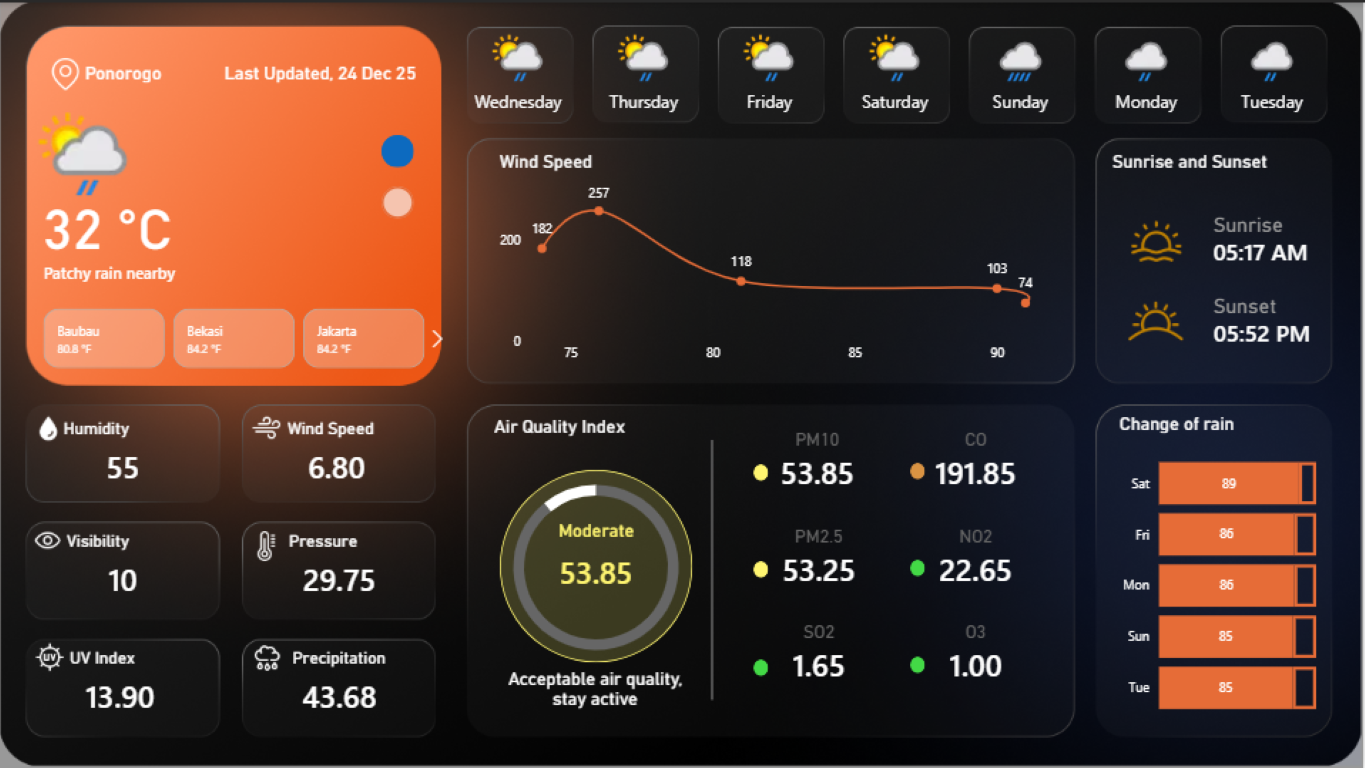

This screenshot's page, from the dashboard's own definition file:
{"tool":"powerbi","page":{"name":"Orange","canvas":[1280,720],"ordinal":0},"visuals":[{"type":"advancedSlicerVisual","fields":{"Values":["Locations.location.name"],"Label":["Measure.Cur_Temp_C"]},"box":[16.1,282.4,410.9,66.9],"z":0},{"type":"card","fields":{"Values":["Measure.Temp_C"]},"box":[14.7,168.6,172.6,77.6],"z":1000},{"type":"cardVisual","fields":{"Rows":["Current.current.condition.text"]},"box":[41.5,214.1,360,69.6],"z":2000},{"type":"cardVisual","fields":{"Rows":["Current.current.condition.text"]},"box":[80.2,56.2,152.6,37.5],"z":3000},{"type":"cardVisual","fields":{"Data":["Min(Current.current.condition.icon)"]},"box":[25.4,89.7,107.1,99],"z":4000},{"type":"image","box":[47.1,40,29.9,53.1],"z":5000},{"type":"cardVisual","fields":{"Data":["Min(Current.current.condition.icon)"]},"box":[28.1,491.2,33.5,28.1],"z":6000},{"type":"cardVisual","fields":{"Rows":["Current.current.condition.text"]},"box":[201.5,56.6,189.3,36.5],"z":7000},{"type":"cardVisual","title":"Visibility","fields":{"Rows":["Current.current.condition.text"]},"box":[46.8,496.5,74.9,18.7],"z":8000},{"type":"cardVisual","fields":{"Data":["Min(Current.current.condition.icon)"]},"box":[30.8,388.1,30.8,24.1],"z":9000},{"type":"cardVisual","fields":{"Data":["Min(Current.current.condition.icon)"]},"box":[231.5,385.4,38.8,28.1],"z":10000},{"type":"cardVisual","fields":{"Data":["Min(Current.current.condition.icon)"]},"box":[32.1,600.9,29.4,28.1],"z":11000},{"type":"cardVisual","fields":{"Data":["Min(Current.current.condition.icon)"]},"box":[236.9,598.2,29.4,34.8],"z":12000},{"type":"cardVisual","fields":{"Data":["Min(Current.current.condition.icon)"]},"box":[231.5,496.5,38.8,28.1],"z":13000},{"type":"cardVisual","title":"Humidity","fields":{"Rows":["Current.current.condition.text"]},"box":[46.8,390.8,74.9,18.7],"z":14000},{"type":"cardVisual","title":"UV Index","fields":{"Rows":["Current.current.condition.text"]},"box":[46.8,606.2,80.3,18.7],"z":15000},{"type":"cardVisual","title":"Precipitation","fields":{"Rows":["Current.current.condition.text"]},"box":[270.3,606.2,92.3,18.7],"z":16000},{"type":"cardVisual","title":"Pressure","fields":{"Rows":["Current.current.condition.text"]},"box":[261,496.5,74.9,18.7],"z":17000},{"type":"cardVisual","title":"Wind Speed","fields":{"Rows":["Current.current.condition.text"]},"box":[270.3,390.8,99,18.7],"z":18000},{"type":"cardVisual","fields":{"Data":["Sum(Current.current.humidity)"]},"box":[28.1,400.1,175.3,68.3],"z":19000},{"type":"cardVisual","fields":{"Data":["Sum(Current.current.wind_kph)"]},"box":[228.8,400.1,175.3,68.3],"z":20000},{"type":"cardVisual","fields":{"Data":["Sum(Current.current.pressure_in)"]},"box":[231.5,505.9,175.3,68.3],"z":21000},{"type":"cardVisual","fields":{"Data":["Sum(Forcast_Days.forecast.forecastday.day.totalprecip_in)"]},"box":[231.5,615.6,175.3,68.3],"z":22000},{"type":"cardVisual","fields":{"Data":["Sum(Current.current.vis_km)"]},"box":[28.1,505.9,175.3,68.3],"z":23000},{"type":"cardVisual","fields":{"Data":["Sum(Current.current.uv)"]},"box":[25.4,615.6,175.3,68.3],"z":24000},{"type":"advancedSlicerVisual","fields":{"Values":["Forcast_Days.Day_Name"]},"box":[426.7,10,834.8,112.7],"z":25000},{"type":"lineChart","title":"Wind Speed ","fields":{"Category":["Forcast_Days.forecast.forecastday.day.avghumidity"],"Y":["Sum(Forcast_Days.forecast.forecastday.day.maxwind_mph)"]},"box":[463.8,139.8,540.8,208.3],"z":26000},{"type":"cardVisual","title":"Sunrise and Sunset","fields":{"Rows":["Current.current.condition.text"]},"box":[1045.2,139.2,199.4,29.4],"z":27000},{"type":"cardVisual","fields":{"Data":["Min(Forcast_Days.Sunrise_Date)"]},"box":[1120.2,206.9,128.4,49.9],"z":28000},{"type":"cardVisual","fields":{"Data":["Min(Forcast_Days.Sunset_Date)"]},"box":[1120.2,282.5,131.3,51.4],"z":29000},{"type":"cardVisual","title":"Sunrise","fields":{"Data":["Min(Forcast_Days.Sunrise_Date)"]},"box":[1134.9,198.1,95,33.5],"z":30000},{"type":"cardVisual","title":"Sunset","fields":{"Data":["Min(Forcast_Days.Sunrise_Date)"]},"box":[1134.9,274.3,80.3,33.5],"z":31000},{"type":"image","box":[1051.7,265.4,68.5,68.5],"z":32000},{"type":"image","box":[1051.7,201.2,68.5,47.1],"z":33000},{"type":"barChart","title":"Change of rain","fields":{"Category":["Forcast_Days.DayName"],"Y":["Avg(Forcast_Days.forecast.forecastday.day.daily_chance_of_rain)","Current.left_value_rain"]},"box":[1051.9,385.4,184.7,298.4],"z":34000},{"type":"cardVisual","title":"Air Quality Index","fields":{"Rows":["Current.current.condition.text"]},"box":[464.4,388.1,136.5,29.4],"z":35000},{"type":"cardVisual","title":"CO","fields":{"Data":["Sum(Current.current.air_quality.co)"]},"box":[842.8,400.3,147.5,65],"z":36000},{"type":"cardVisual","title":"NO2","fields":{"Data":["Sum(Current.current.air_quality.no2)"]},"box":[842.8,491.6,147.5,65],"z":37000},{"type":"cardVisual","title":"O3","fields":{"Data":["Sum(Current.current.air_quality.o3)"]},"box":[842.8,581.2,147.5,65],"z":38000},{"type":"cardVisual","title":"PM10","fields":{"Data":["Sum(Current.current.air_quality.pm10)"]},"box":[704.1,400.3,128.2,65],"z":39000},{"type":"cardVisual","title":"PM2.5","fields":{"Data":["Sum(Current.current.air_quality.pm2_5)"]},"box":[695.3,491.6,147.5,65],"z":40000},{"type":"cardVisual","title":"SO2","fields":{"Data":["Sum(Current.current.air_quality.so2)"]},"box":[695.3,581.2,147.5,65],"z":41000},{"type":"shape","box":[707.6,433.7,14,15.8],"z":42000},{"type":"shape","box":[707.6,525,14,15.8],"z":43000},{"type":"shape","box":[707.6,616.3,14,15.8],"z":44000},{"type":"shape","box":[855.4,432,14,15.8],"z":45000},{"type":"shape","box":[855.4,523.3,14,15.8],"z":46000},{"type":"shape","box":[855.4,614.6,14,15.8],"z":47000},{"type":"shape","box":[640.9,410.9,56.2,244.1],"z":48000},{"type":"shape","box":[469.7,439.3,180.9,180.9],"z":49000},{"type":"donutChart","title":"PM10","fields":{"Y":["Measure.Left_Value_PM10","Sum(Current.current.air_quality.pm10)"]},"box":[416.2,433.6,287.7,194.1],"z":50000},{"type":"cardVisual","fields":{"Data":["Sum(Current.current.air_quality.pm10)"]},"box":[488.1,486.4,144,77.3],"z":51000},{"type":"cardVisual","fields":{"Rows":["Current.current.condition.text"]},"box":[464.4,625,190,40.1],"z":52000},{"type":"shape","box":[358.8,124.7,30.4,30.4],"z":52001},{"type":"shape","box":[358.8,173.3,30.4,30.4],"z":52002}]}

Visuals, with their boxes in screenshot pixels (x1, y1, x2, y2), scaled from the page's 1280x720 canvas onto the 1365x768 screenshot:
advancedSlicerVisual - Locations.location.name x Measure.Cur_Temp_C: rect(17, 301, 455, 373)
card - Measure.Temp_C: rect(16, 180, 200, 263)
cardVisual - Current.current.condition.text: rect(44, 228, 428, 303)
cardVisual - Current.current.condition.text: rect(86, 60, 248, 100)
cardVisual - Min(Current.current.condition.icon): rect(27, 96, 141, 201)
image: rect(50, 43, 82, 99)
cardVisual - Min(Current.current.condition.icon): rect(30, 524, 66, 554)
cardVisual - Current.current.condition.text: rect(215, 60, 417, 99)
"Visibility" cardVisual: rect(50, 530, 130, 550)
cardVisual - Min(Current.current.condition.icon): rect(33, 414, 66, 440)
cardVisual - Min(Current.current.condition.icon): rect(247, 411, 288, 441)
cardVisual - Min(Current.current.condition.icon): rect(34, 641, 66, 671)
cardVisual - Min(Current.current.condition.icon): rect(253, 638, 284, 675)
cardVisual - Min(Current.current.condition.icon): rect(247, 530, 288, 560)
"Humidity" cardVisual: rect(50, 417, 130, 437)
"UV Index" cardVisual: rect(50, 647, 136, 667)
"Precipitation" cardVisual: rect(288, 647, 387, 667)
"Pressure" cardVisual: rect(278, 530, 358, 550)
"Wind Speed" cardVisual: rect(288, 417, 394, 437)
cardVisual - Sum(Current.current.humidity): rect(30, 427, 217, 500)
cardVisual - Sum(Current.current.wind_kph): rect(244, 427, 431, 500)
cardVisual - Sum(Current.current.pressure_in): rect(247, 540, 434, 612)
cardVisual - Sum(Forcast_Days.forecast.forecastday.day.totalprecip_in): rect(247, 657, 434, 729)
cardVisual - Sum(Current.current.vis_km): rect(30, 540, 217, 612)
cardVisual - Sum(Current.current.uv): rect(27, 657, 214, 729)
advancedSlicerVisual - Forcast_Days.Day_Name: rect(455, 11, 1345, 131)
"Wind Speed " lineChart: rect(495, 149, 1071, 371)
"Sunrise and Sunset" cardVisual: rect(1115, 148, 1327, 180)
cardVisual - Min(Forcast_Days.Sunrise_Date): rect(1195, 221, 1332, 274)
cardVisual - Min(Forcast_Days.Sunset_Date): rect(1195, 301, 1335, 356)
"Sunrise" cardVisual: rect(1210, 211, 1312, 247)
"Sunset" cardVisual: rect(1210, 293, 1296, 328)
image: rect(1122, 283, 1195, 356)
image: rect(1122, 215, 1195, 265)
"Change of rain" barChart: rect(1122, 411, 1319, 729)
"Air Quality Index" cardVisual: rect(495, 414, 641, 445)
"CO" cardVisual: rect(899, 427, 1056, 496)
"NO2" cardVisual: rect(899, 524, 1056, 594)
"O3" cardVisual: rect(899, 620, 1056, 689)
"PM10" cardVisual: rect(751, 427, 888, 496)
"PM2.5" cardVisual: rect(741, 524, 899, 594)
"SO2" cardVisual: rect(741, 620, 899, 689)
shape: rect(755, 463, 770, 479)
shape: rect(755, 560, 770, 577)
shape: rect(755, 657, 770, 674)
shape: rect(912, 461, 927, 478)
shape: rect(912, 558, 927, 575)
shape: rect(912, 656, 927, 672)
shape: rect(683, 438, 743, 699)
shape: rect(501, 469, 694, 662)
"PM10" donutChart: rect(444, 463, 751, 670)
cardVisual - Sum(Current.current.air_quality.pm10): rect(521, 519, 674, 601)
cardVisual - Current.current.condition.text: rect(495, 667, 698, 709)
shape: rect(383, 133, 415, 165)
shape: rect(383, 185, 415, 217)
